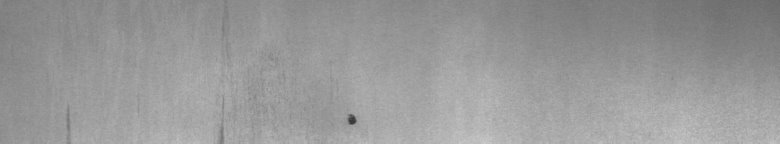fi: (340, 108, 361, 132)
